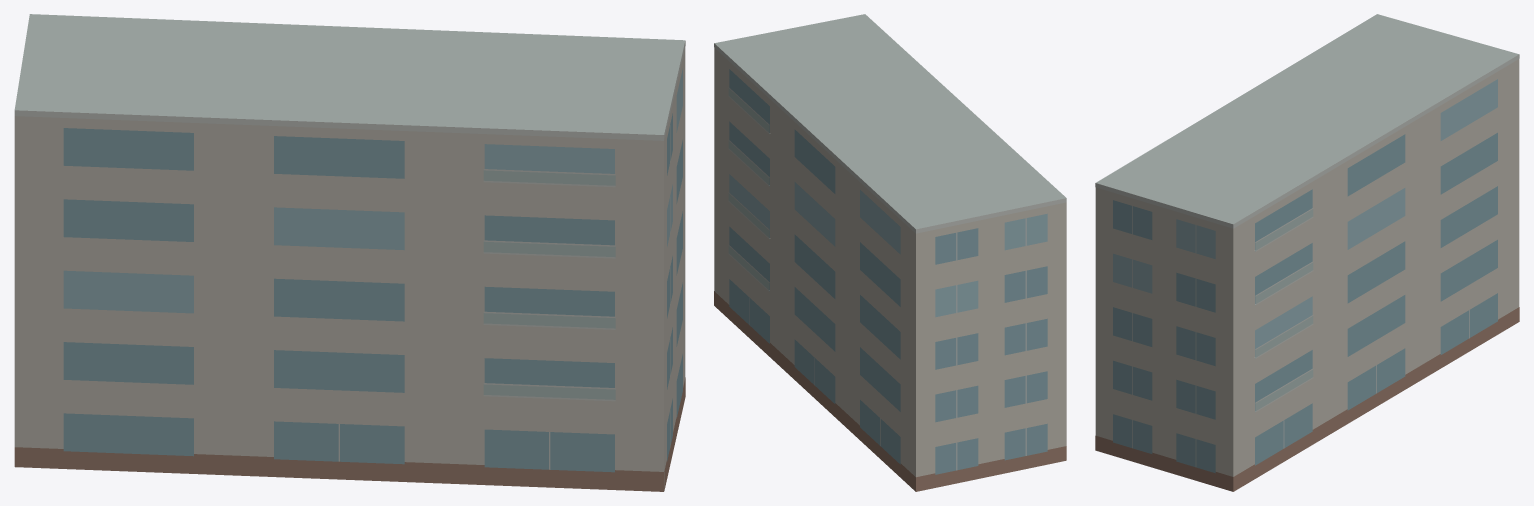
The model's file is survey-upis-32832182.glb.
The picture shows the model from 3 angles, left to right: view 1: azimuth 30°, elevation 25°; view 2: azimuth 150°, elevation 25°; view 3: azimuth 270°, elevation 25°; orthographic projection. The views are drawn at different scales.
Visible parts, largest first — view 1: survey-upis-32832182.tmp; view 2: survey-upis-32832182.tmp; view 3: survey-upis-32832182.tmp.
Boxes of the visible parts, x1,y1,x2,y2 form: survey-upis-32832182.tmp: (14, 14, 685, 491); survey-upis-32832182.tmp: (714, 14, 1066, 491); survey-upis-32832182.tmp: (1095, 14, 1519, 491).
Size of the model in its own units: 25.31 by 15 by 21.55.
